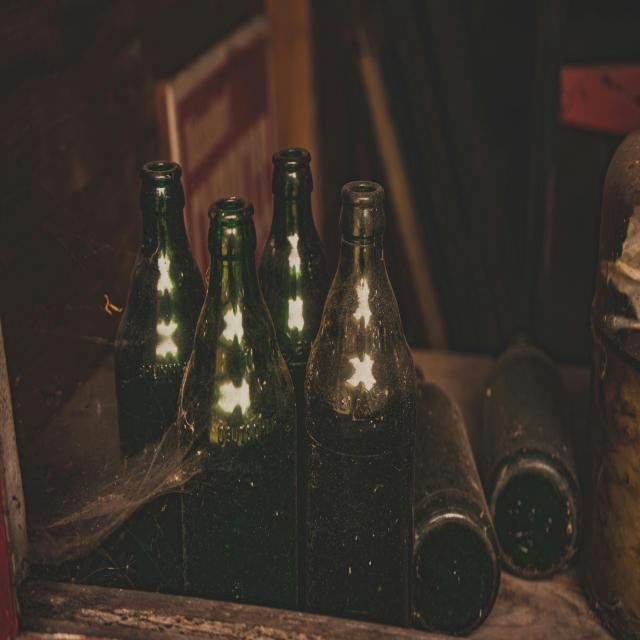electronic: (111, 141, 418, 640)
